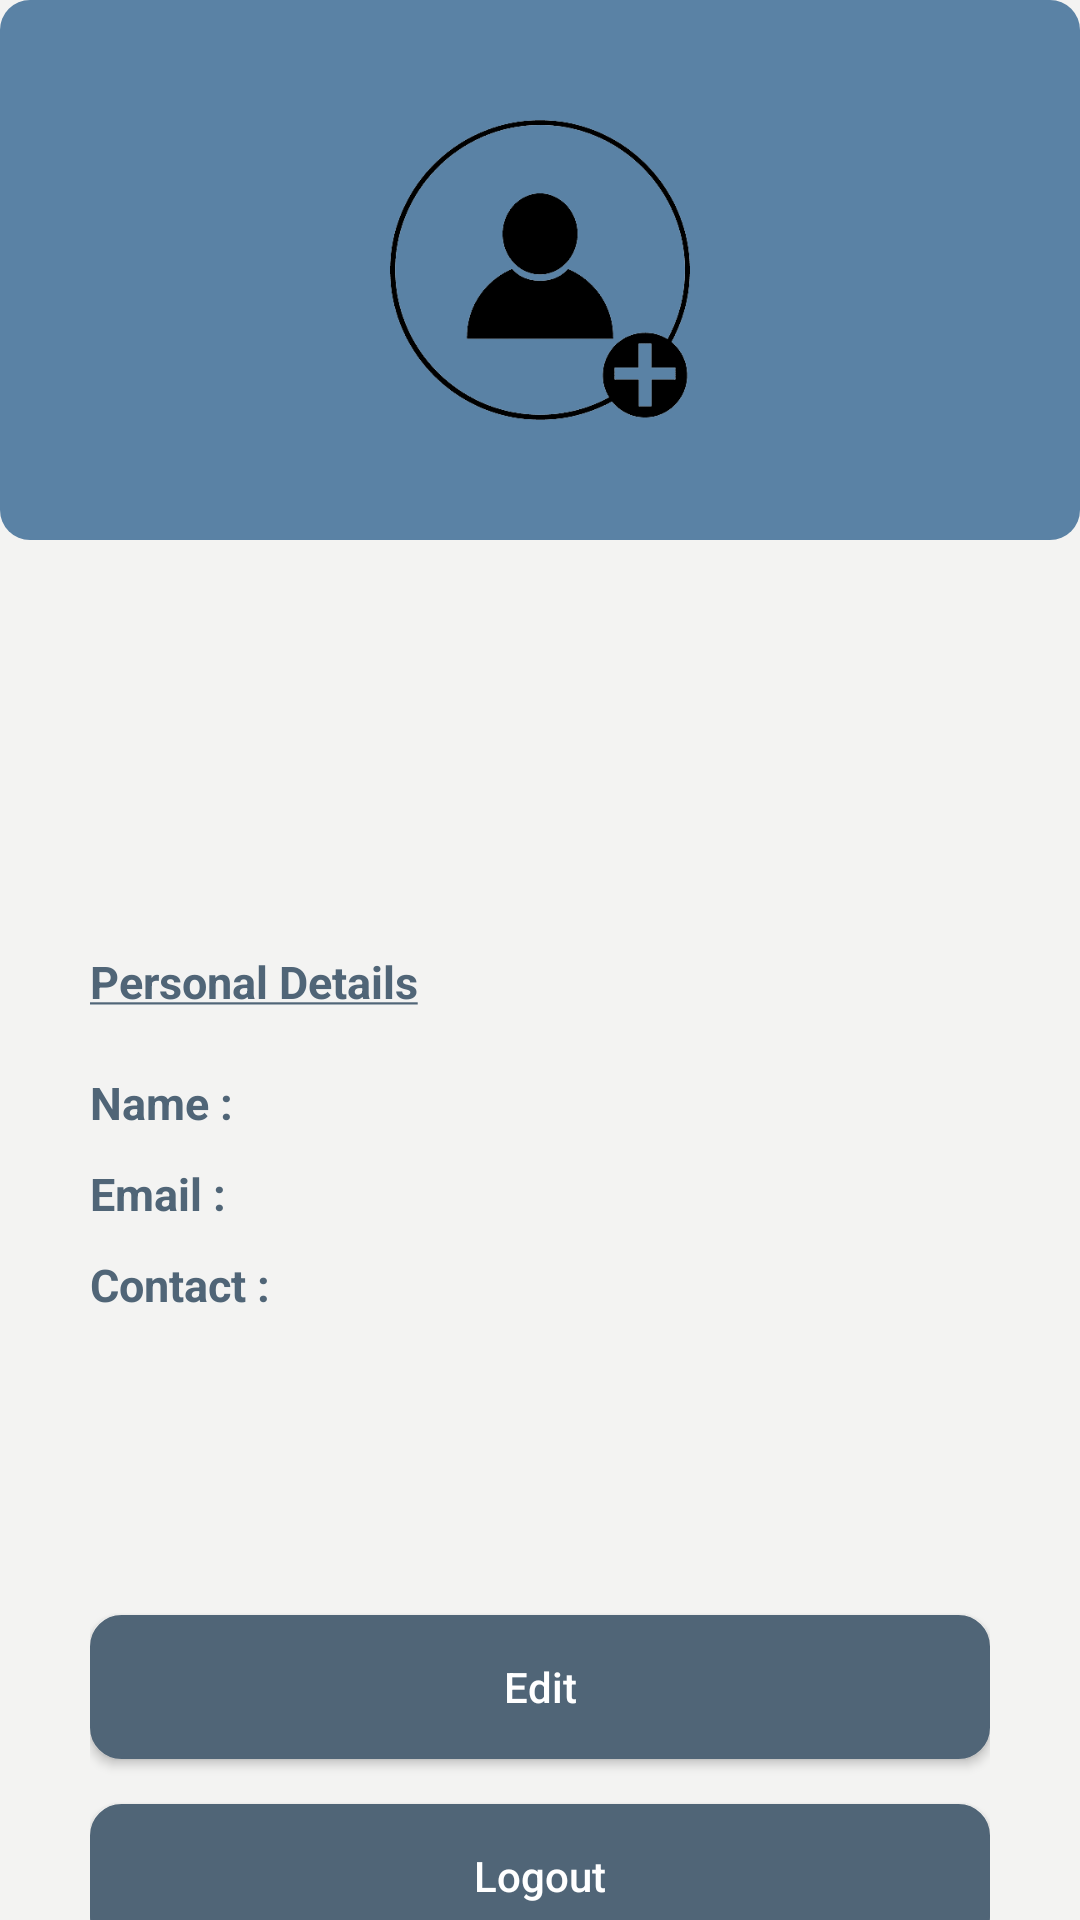

Icons on this 1080 × 1920 Android screen, each with the point to tap as point (x, y):
avatarpranik: point (540, 270)
